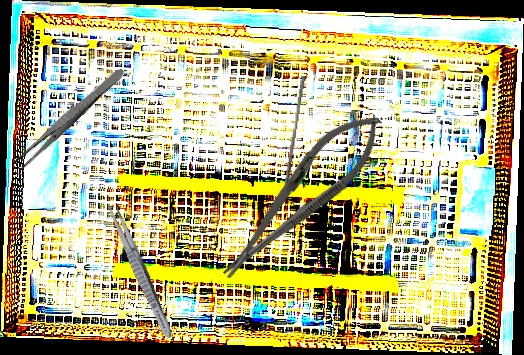Dressing Forceps: (12, 64, 127, 172), (102, 199, 177, 341)
Needle Holder: (205, 98, 397, 294)
Pusher: (281, 75, 307, 200)
